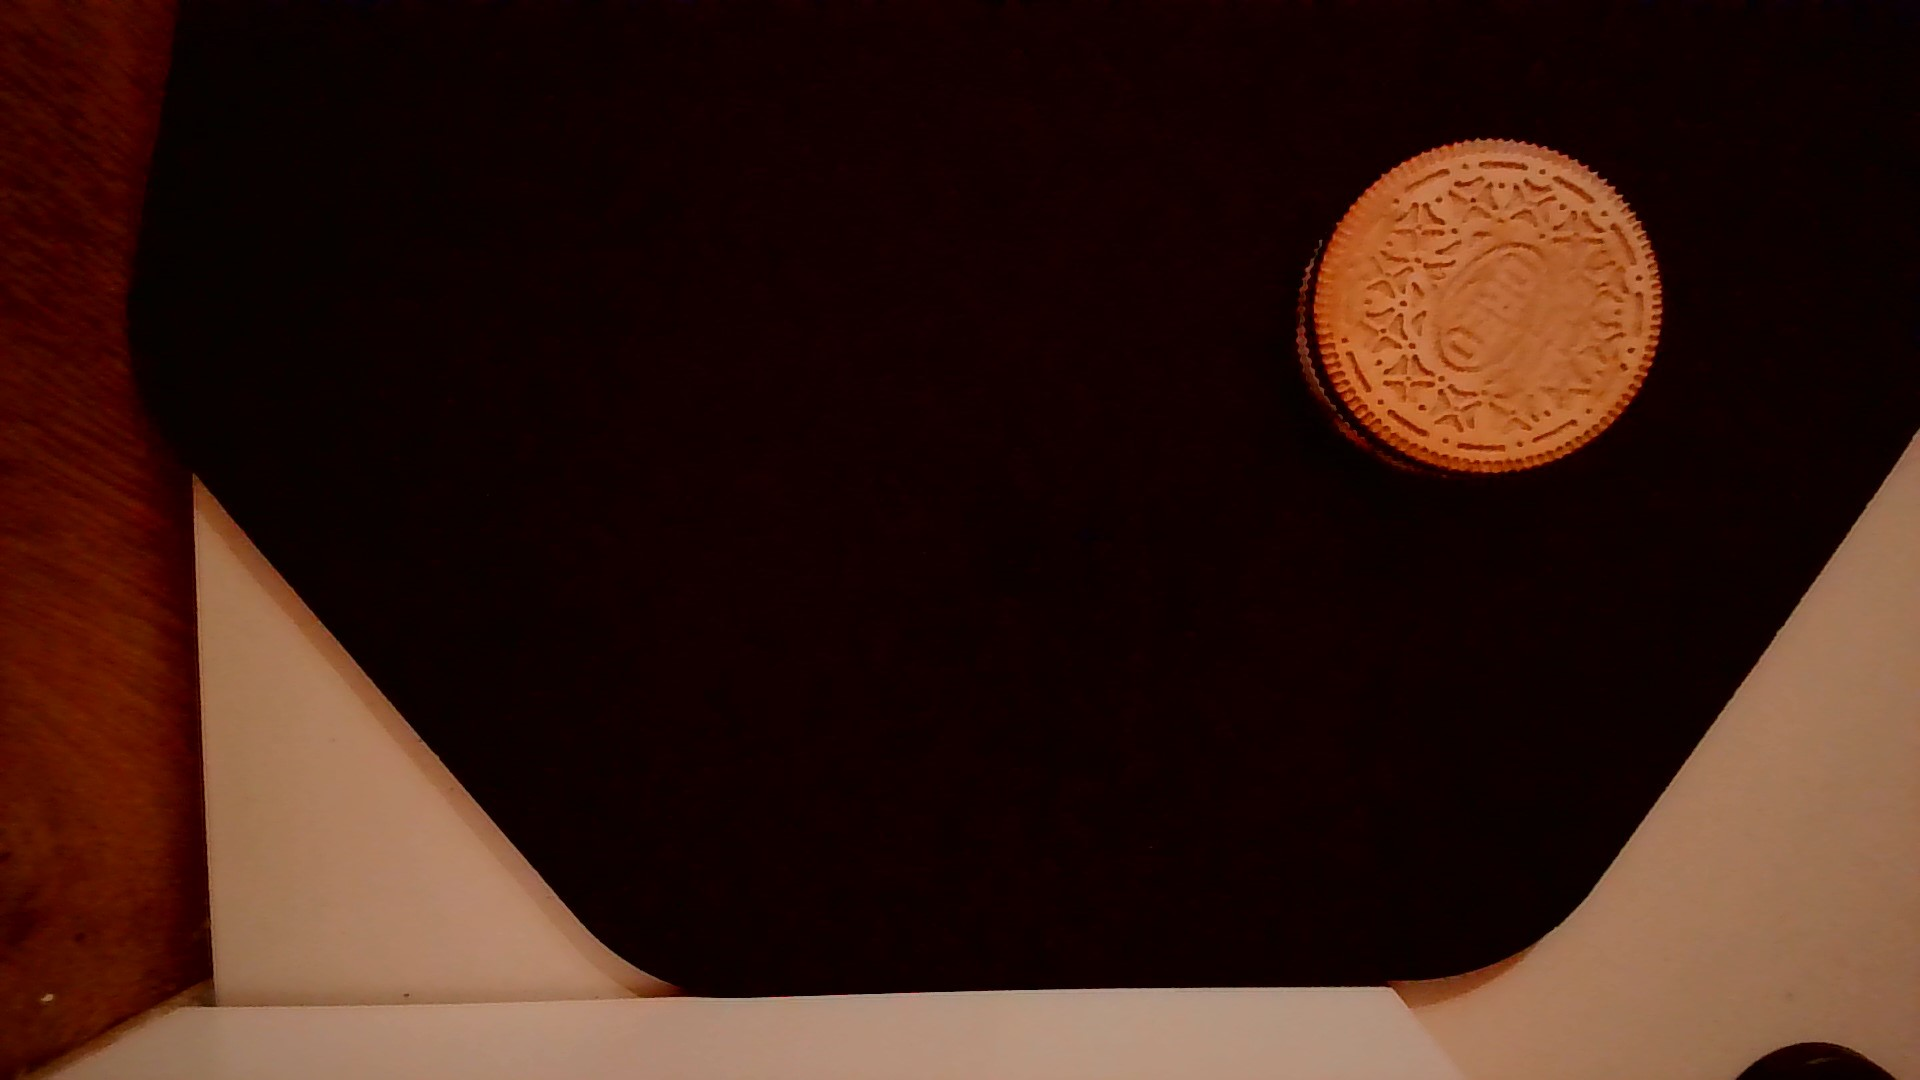Effacé: (1470, 245, 1586, 400), (1312, 193, 1385, 334)
Oréo: (1283, 129, 1673, 489)
